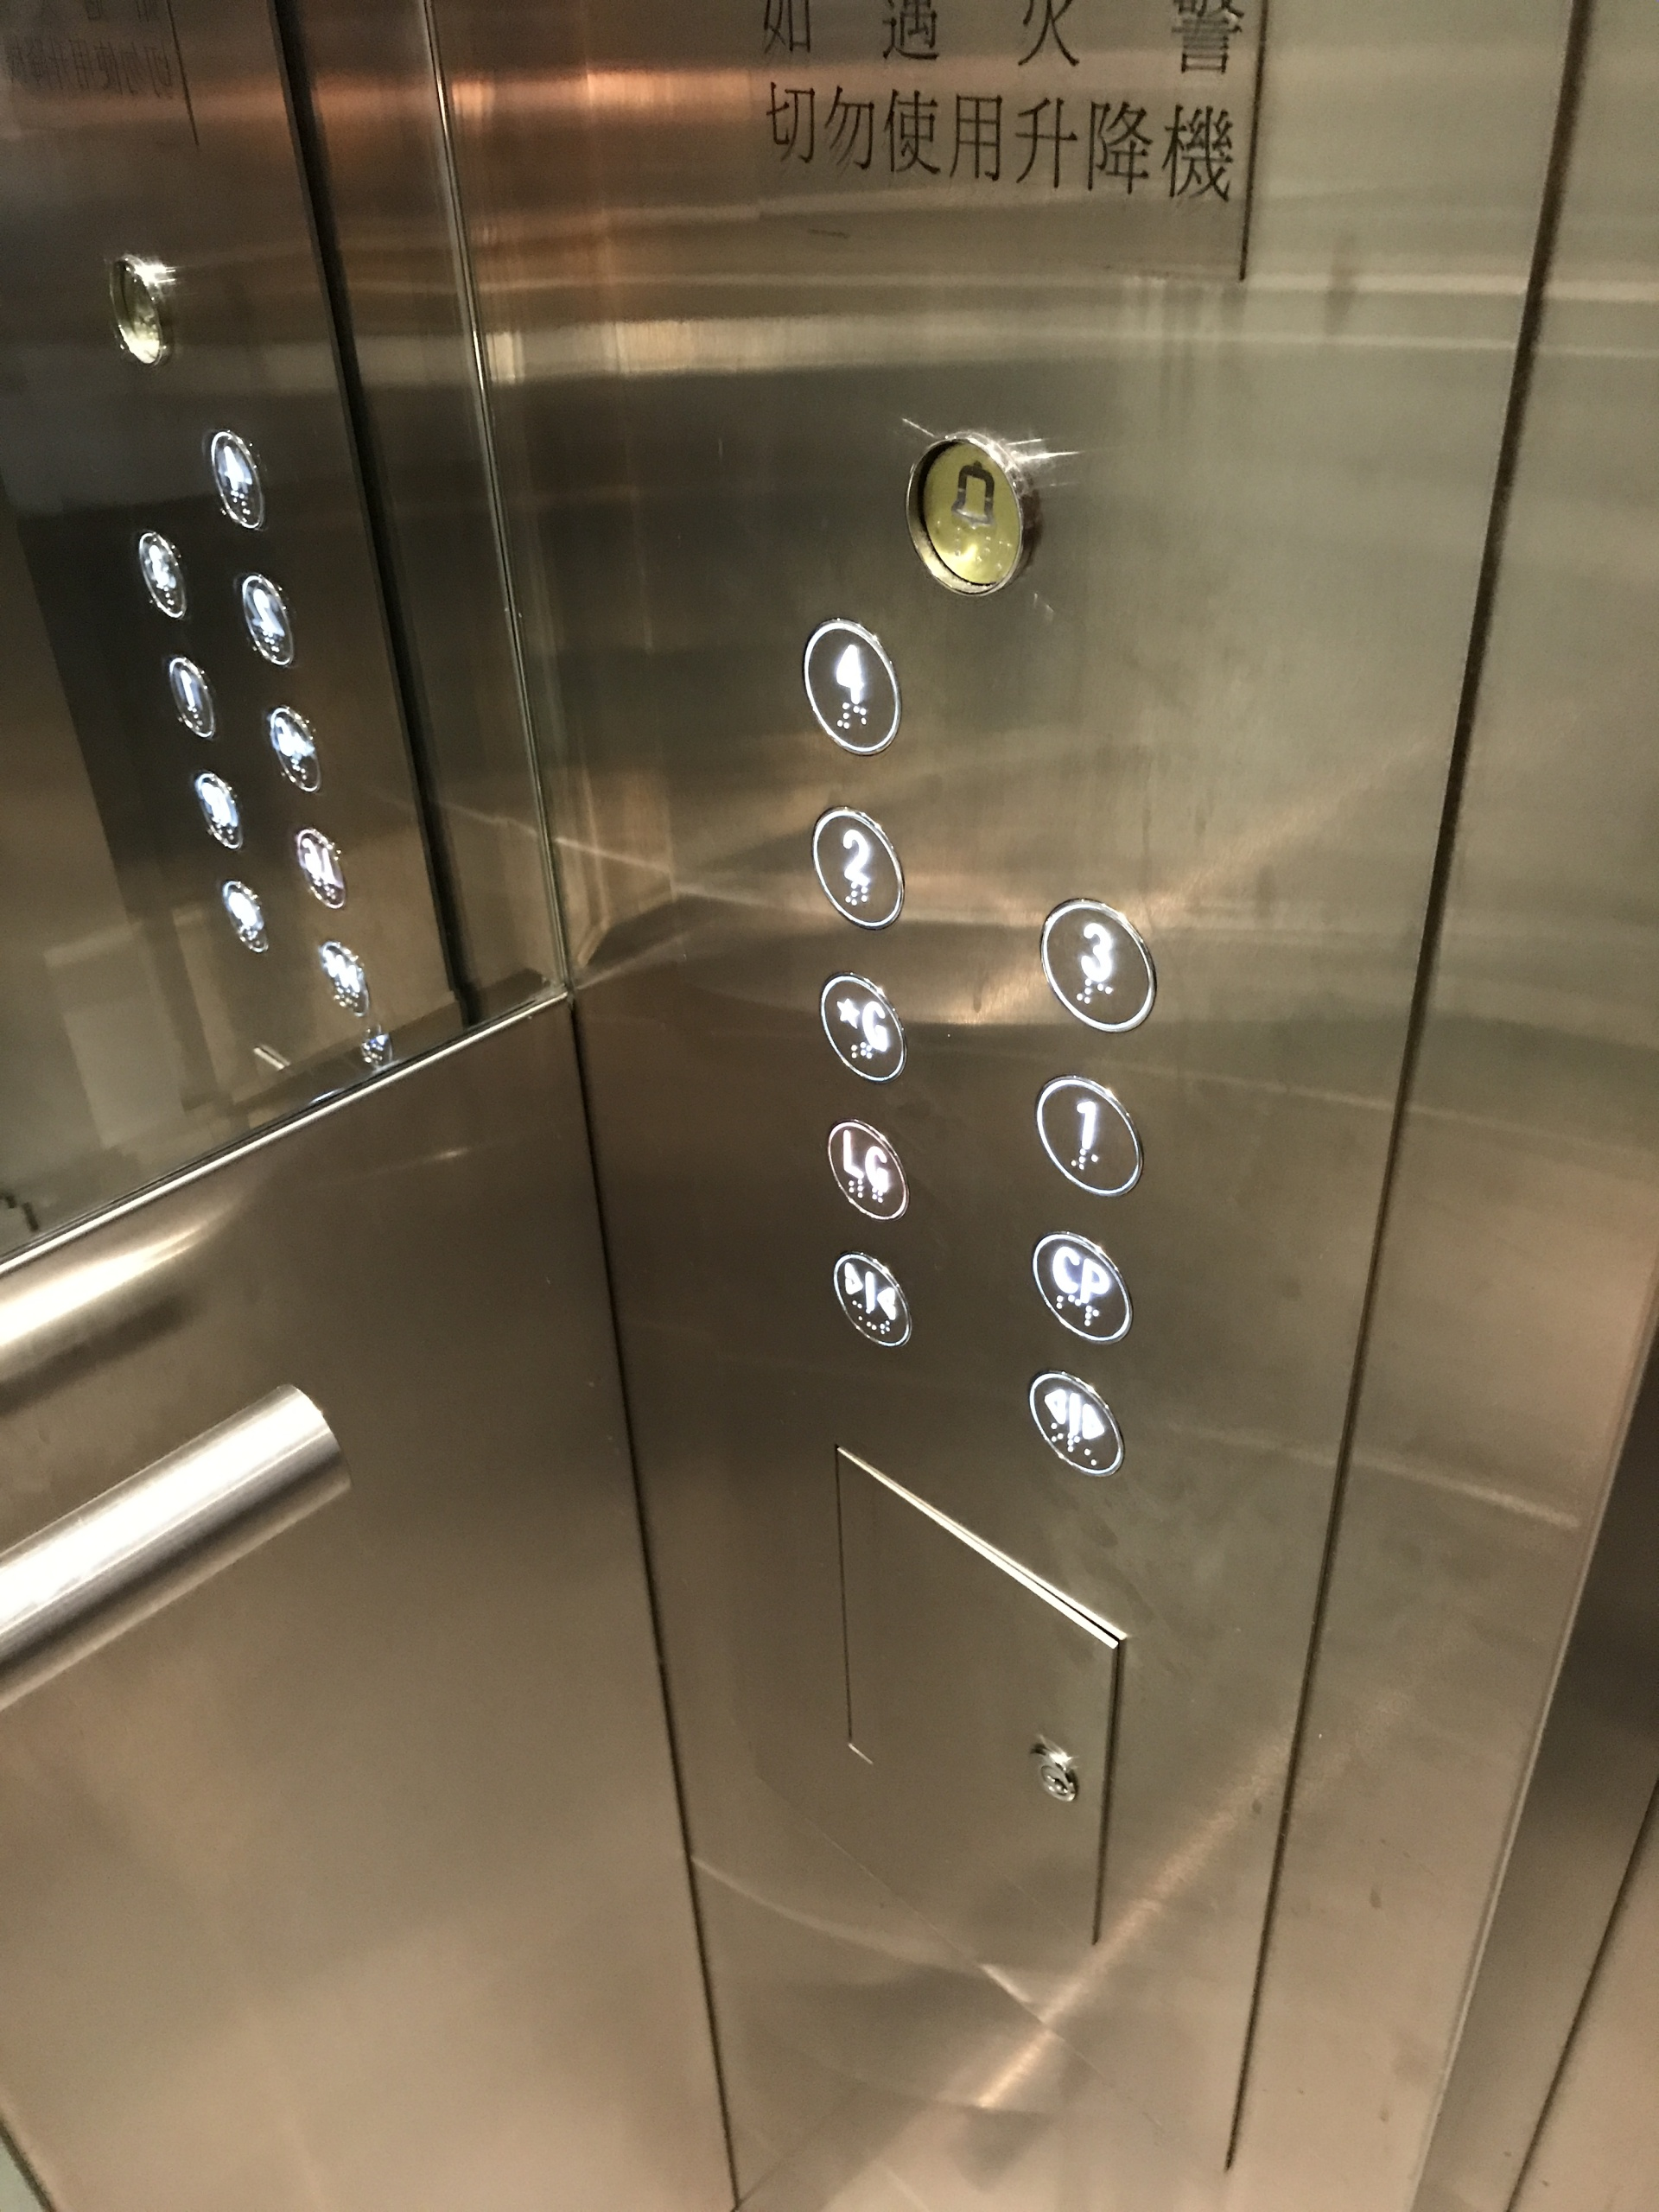1: (1032, 1071, 1145, 1204)
2: (807, 801, 908, 932)
3: (1037, 894, 1159, 1036)
4: (800, 613, 904, 758)
CP: (1026, 1226, 1136, 1350)
LG: (823, 1108, 911, 1224)
alarm: (894, 427, 1042, 603)
close: (828, 1245, 918, 1352), (312, 932, 373, 1015)
open: (1023, 1364, 1127, 1482)
sG: (812, 963, 910, 1085)
unknown: (105, 253, 174, 369), (207, 425, 270, 533), (235, 570, 300, 669), (265, 698, 326, 796), (132, 526, 192, 620), (291, 822, 352, 909), (160, 651, 218, 742), (193, 768, 247, 853), (216, 874, 270, 953)
